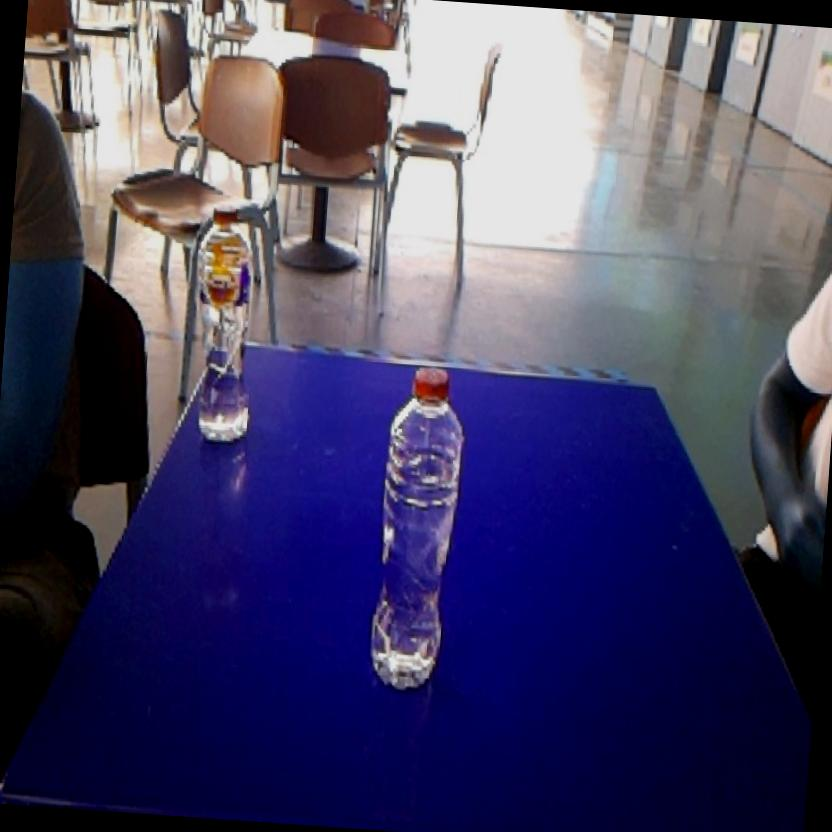good: (174, 197, 272, 457)
no_label: (356, 358, 477, 702)
